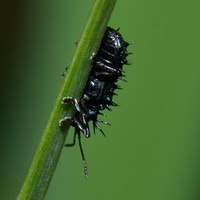insect: (59, 27, 128, 177)
